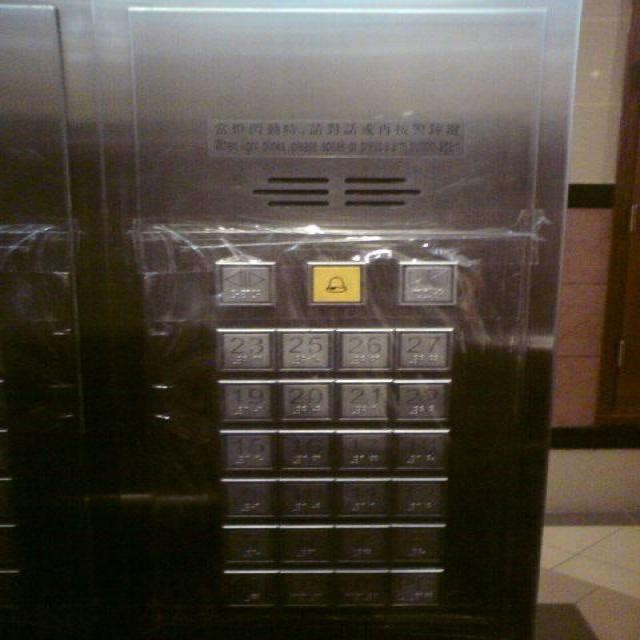11: (336, 476, 393, 517)
12: (393, 477, 448, 518)
15: (215, 427, 276, 470)
16: (277, 427, 335, 470)
17: (335, 427, 393, 471)
19: (214, 378, 274, 420)
20: (276, 379, 335, 421)
21: (336, 379, 395, 421)
22: (391, 378, 448, 419)
23: (212, 327, 277, 372)
25: (277, 325, 335, 372)
26: (334, 326, 394, 372)
27: (396, 326, 453, 371)
PG: (389, 569, 444, 611)
alarm: (303, 260, 367, 306)
blur: (395, 259, 457, 305), (215, 474, 277, 517), (388, 523, 445, 569), (219, 522, 277, 567), (218, 568, 278, 611), (279, 523, 333, 568), (394, 428, 449, 472), (277, 476, 336, 517), (335, 523, 388, 568), (280, 568, 335, 611), (336, 569, 389, 613)
open: (211, 260, 276, 307)
